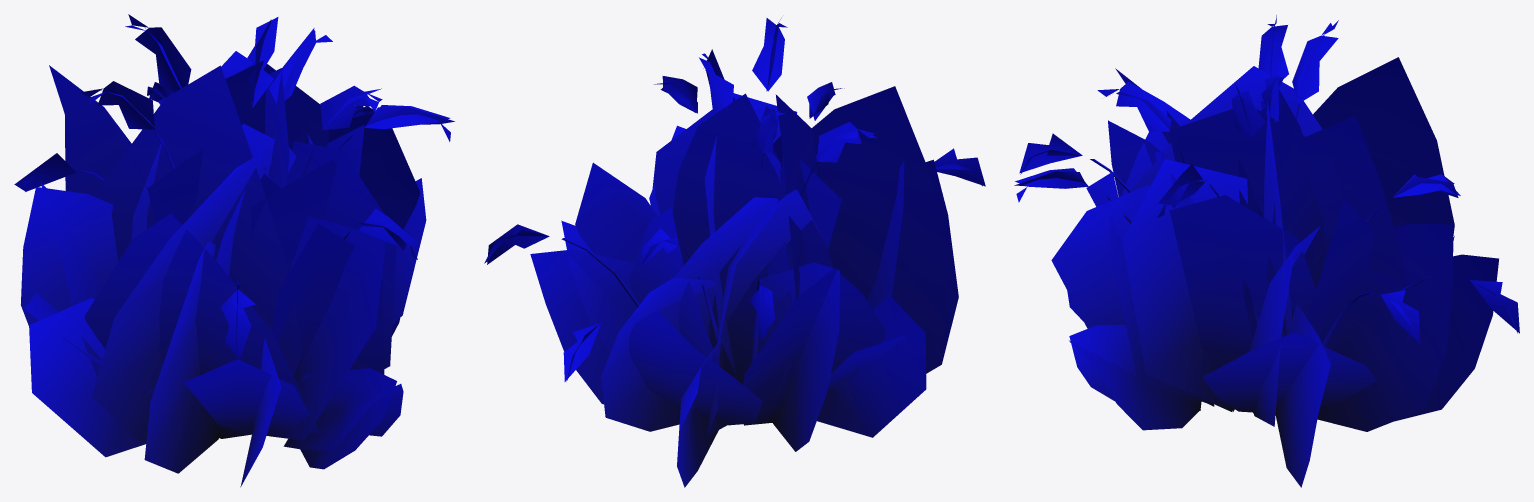
The model's file is SM_WildGrass_M_01.fbx.
3 views of the same model, side by side, from view 1: azimuth 30°, elevation 25°; view 2: azimuth 150°, elevation 25°; view 3: azimuth 270°, elevation 25° (orthographic). The views are drawn at different scales.
Parts seen in each view (by area): view 1: SM_WildGrass_M_01_LOD0; view 2: SM_WildGrass_M_01_LOD0; view 3: SM_WildGrass_M_01_LOD0.
Boxes of the visible parts, x1=… form: SM_WildGrass_M_01_LOD0: x1=14, y1=14, x2=454, y2=487; SM_WildGrass_M_01_LOD0: x1=484, y1=18, x2=985, y2=487; SM_WildGrass_M_01_LOD0: x1=1014, y1=15, x2=1519, y2=487.
Bounding box in the file's own units: 100 × 113 × 93.78.
